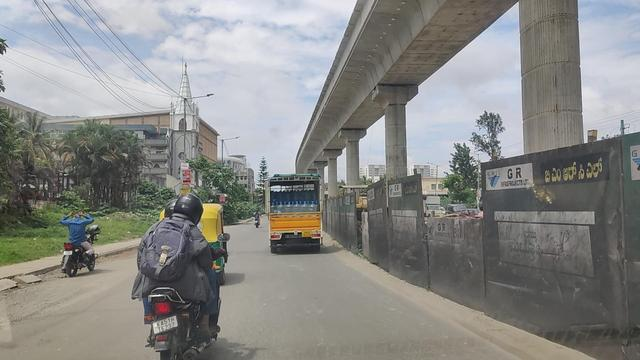HMV: (269, 166, 330, 256)
LMV: (123, 184, 218, 360), (139, 196, 229, 295), (61, 210, 95, 276)
